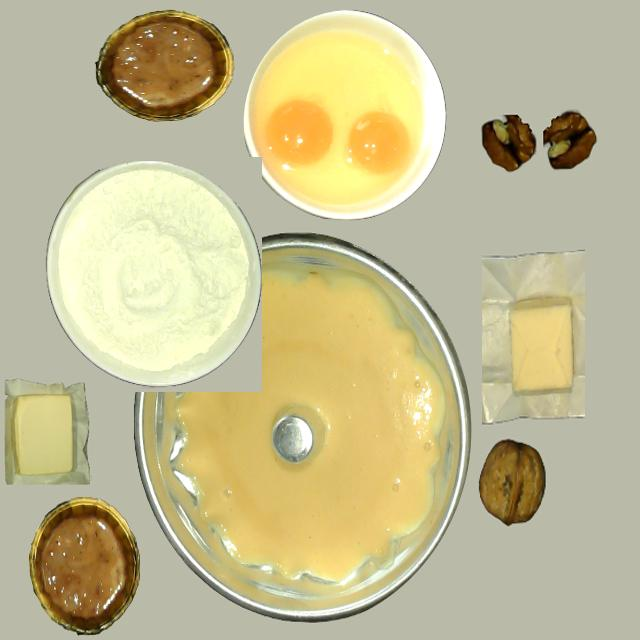Egg: (266, 100, 332, 166), (348, 112, 408, 172)
Flour: (47, 163, 257, 384)
Walnut: (479, 440, 545, 526)
